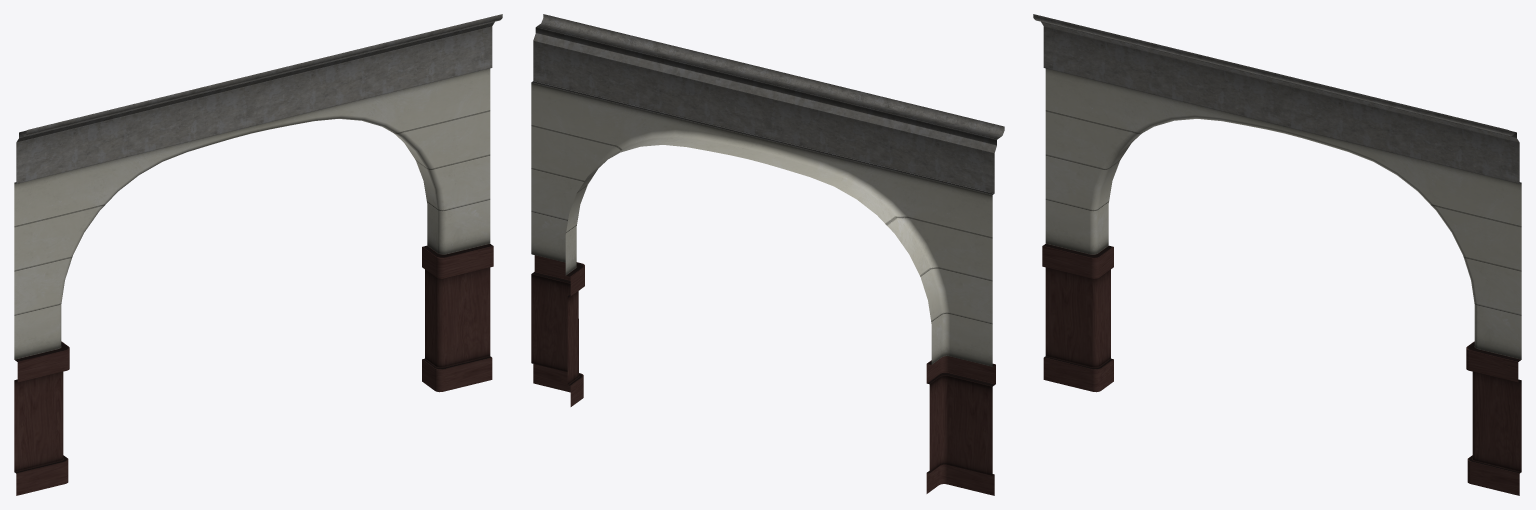
File: Wall 6 Arch.fbx
3 views of the same model, side by side, from view 1: azimuth 30°, elevation 25°; view 2: azimuth 150°, elevation 25°; view 3: azimuth 330°, elevation 25° (orthographic). The views are drawn at different scales.
Parts seen in each view (by area): view 1: Wall_6_Arch; view 2: Wall_6_Arch; view 3: Wall_6_Arch.
Part boxes in pixels (x1,y1,x2,y2): Wall_6_Arch: (14,14,502,495); Wall_6_Arch: (531,14,1004,495); Wall_6_Arch: (1033,14,1521,495).
Size of the model in its own units: 400 by 300 by 38.12.
